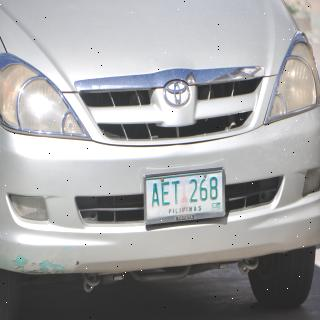license: (145, 169, 226, 225)
